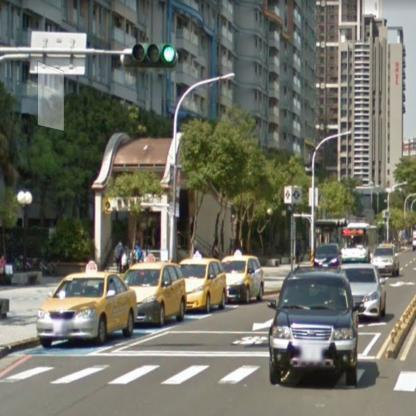Green Light: (132, 40, 177, 65)
